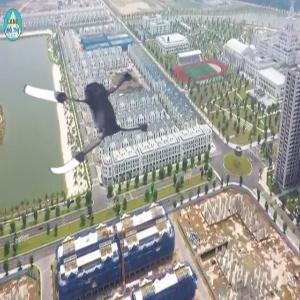drone: (16, 39, 163, 186)
